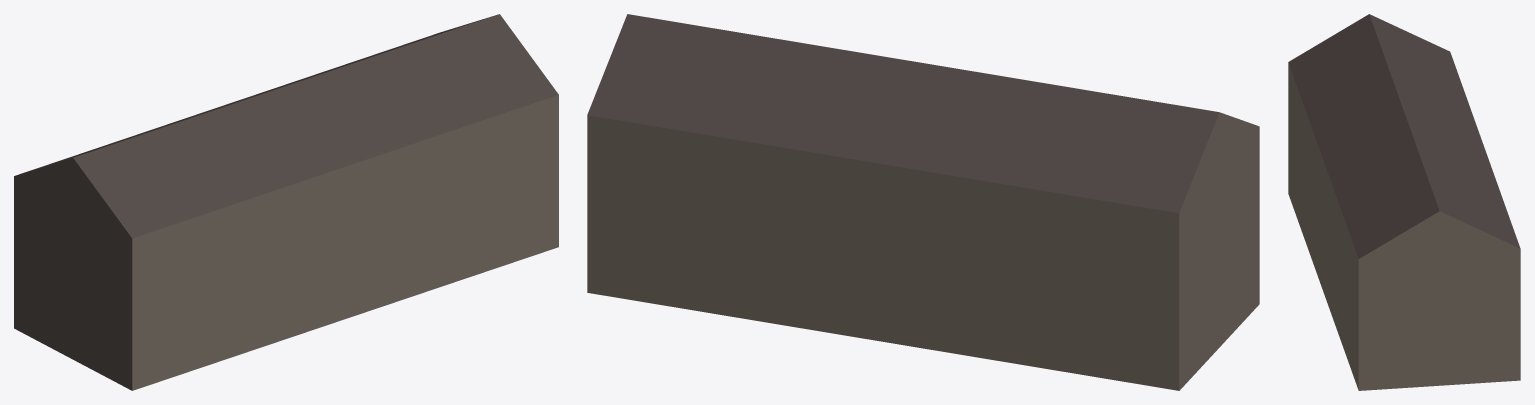
3 views of the same model, side by side, from view 1: azimuth 30°, elevation 25°; view 2: azimuth 150°, elevation 25°; view 3: azimuth 270°, elevation 25° (orthographic). The views are drawn at different scales.
Parts seen in each view (by area): view 1: HP-w1286956100; view 2: HP-w1286956100; view 3: HP-w1286956100.
Part boxes in pixels (bbox=[...]): HP-w1286956100: bbox=[14, 14, 558, 390]; HP-w1286956100: bbox=[587, 14, 1259, 390]; HP-w1286956100: bbox=[1288, 14, 1520, 390].
Size of the model in its own units: 30.41 by 11.93 by 14.38.
